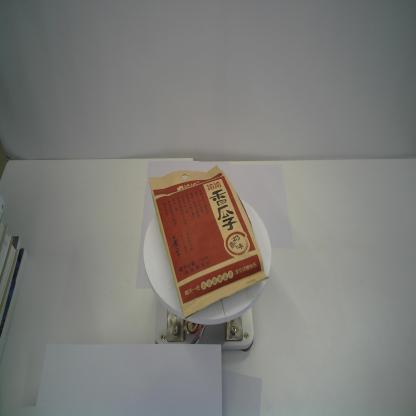Dried Food: (149, 164, 269, 320)
